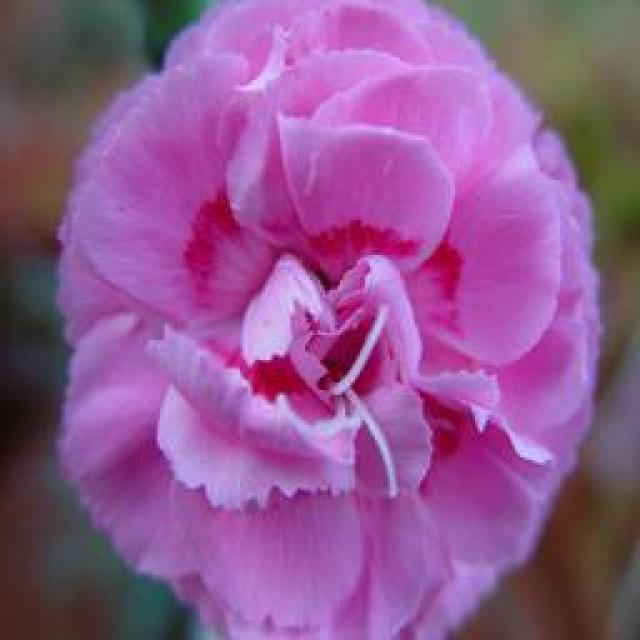carnation: (69, 6, 583, 640)
